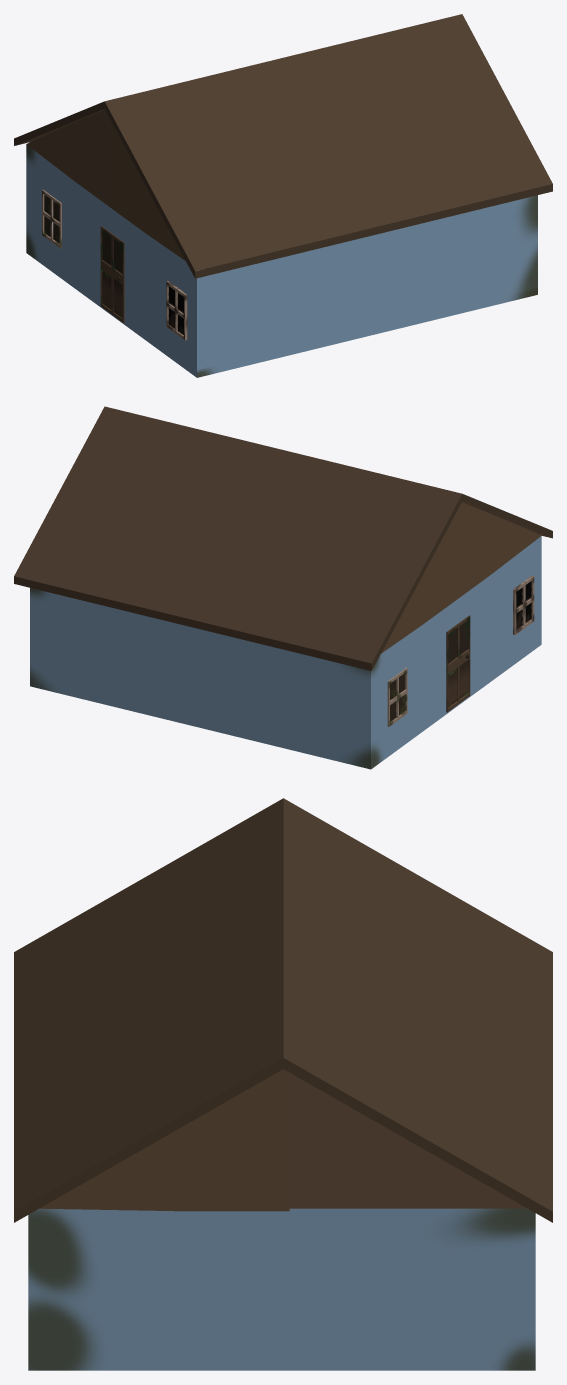
The model's file is Casas1.fbx.
3 renders of one model, top to bottom at view 1: azimuth 30°, elevation 25°; view 2: azimuth 150°, elevation 25°; view 3: azimuth 270°, elevation 25°, orthographic. The views are drawn at different scales.
Parts seen in each view (by area): view 1: Techo Casa 1, Casa1; view 2: Techo Casa 1, Casa1; view 3: Techo Casa 1, Casa1.
Boxes of the visible parts, x1,y1,x2,y2 form: Techo Casa 1: (14,14,552,278); Casa1: (26,144,537,377); Techo Casa 1: (14,406,552,670); Casa1: (30,536,541,769); Techo Casa 1: (14,798,552,1222); Casa1: (28,1208,535,1370).
Bounding box in the file's own units: 10485 × 6033 × 9200.
1 material, 1 textured.
